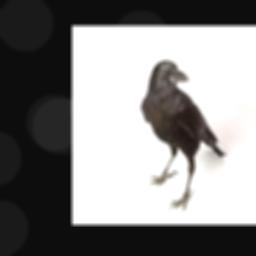Crow: (140, 59, 226, 212)
